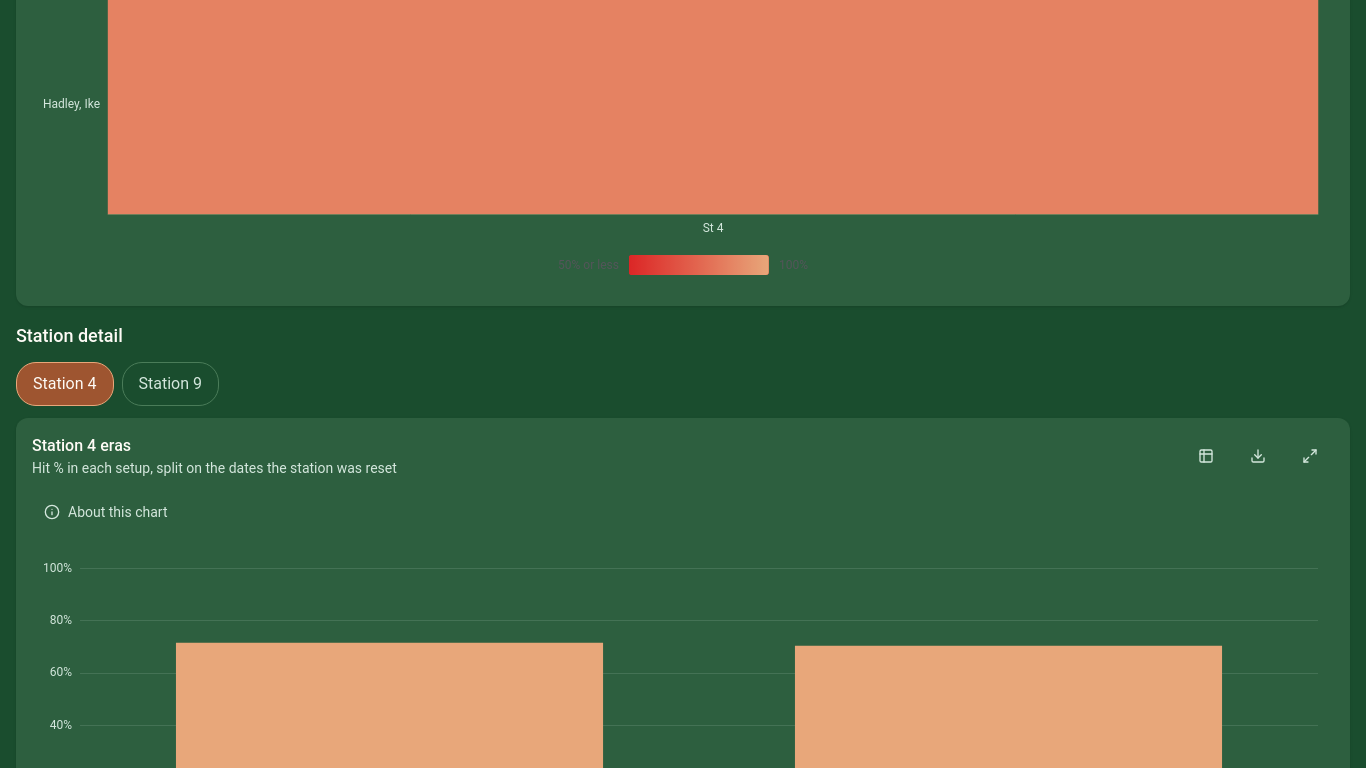
Test: StationsPage › switches the detail panel to the chosen station
The image size is (1366, 768).
(page scrolled)
Click the button "Station 9" at (170, 384), box [122, 362, 219, 406]
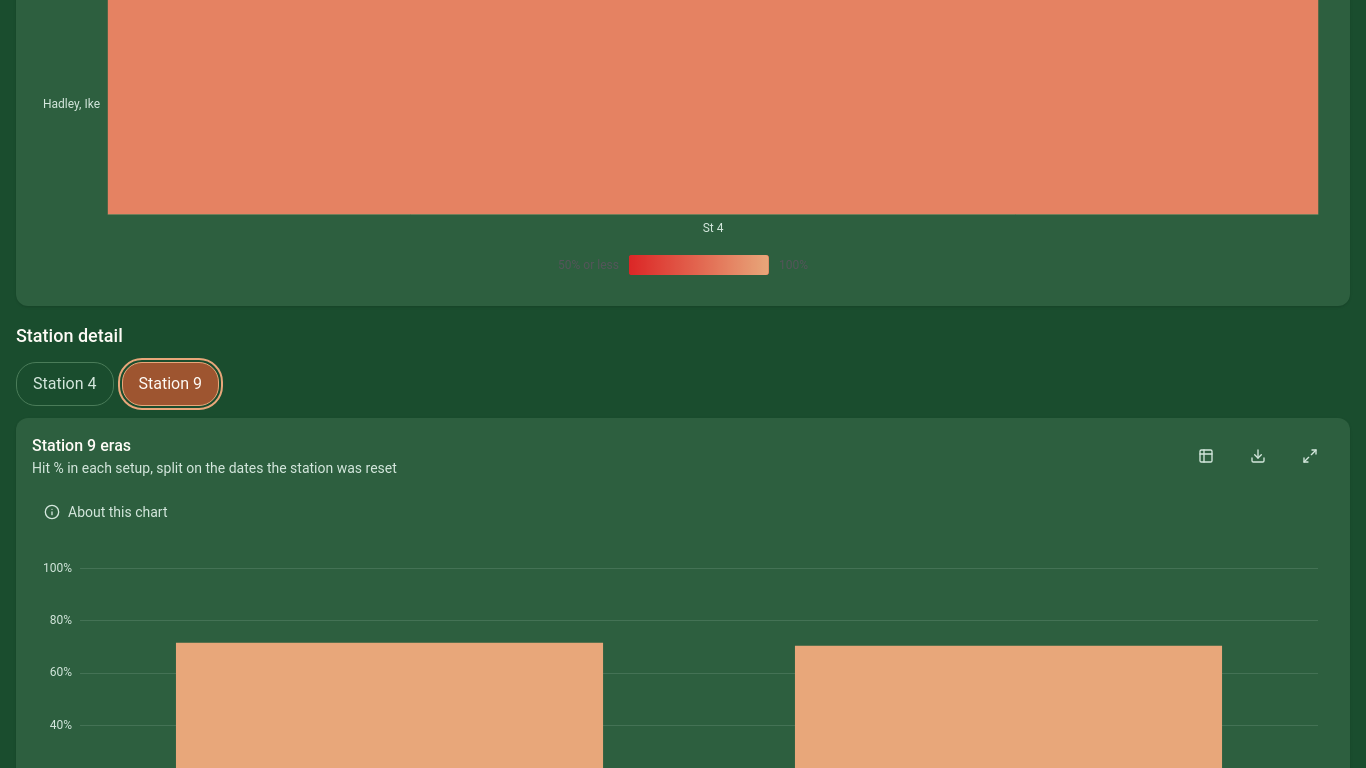
Result: the heading "Station 9 eras" is shown at [32, 436, 131, 455]
